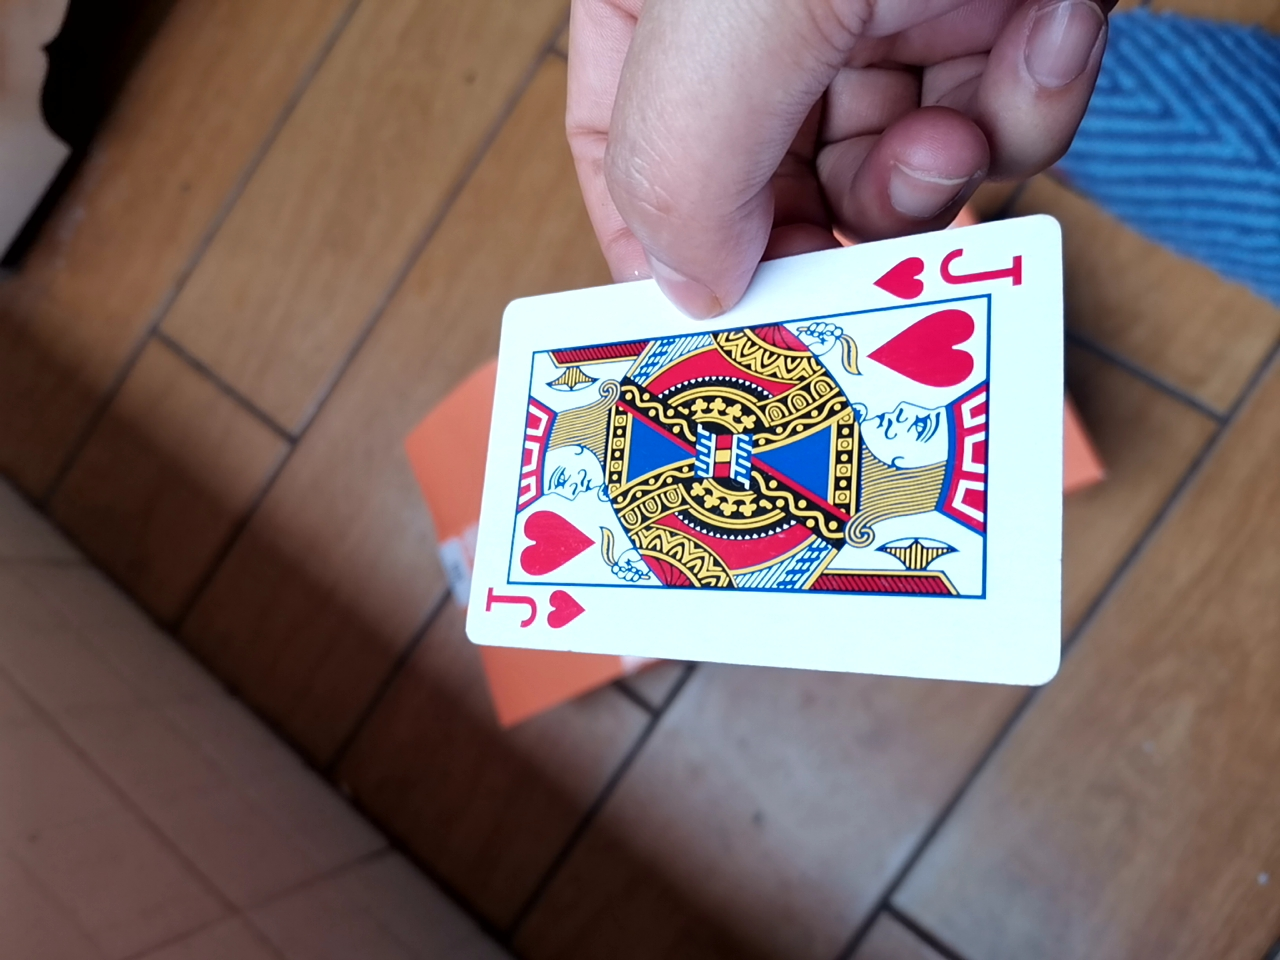hx j: (449, 224, 1082, 678)
